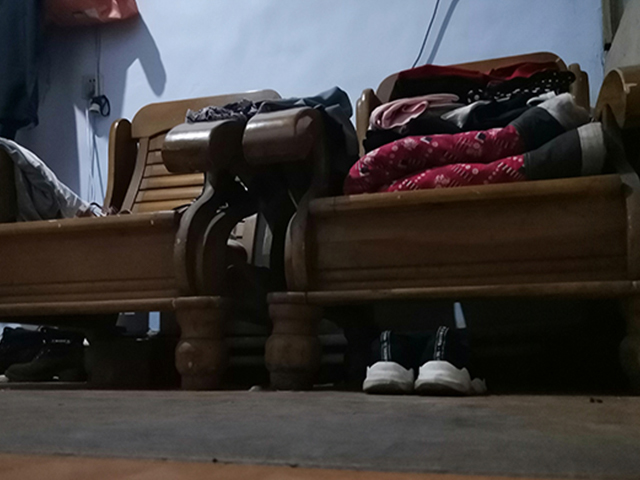stool: (245, 47, 640, 391), (1, 84, 265, 387)
